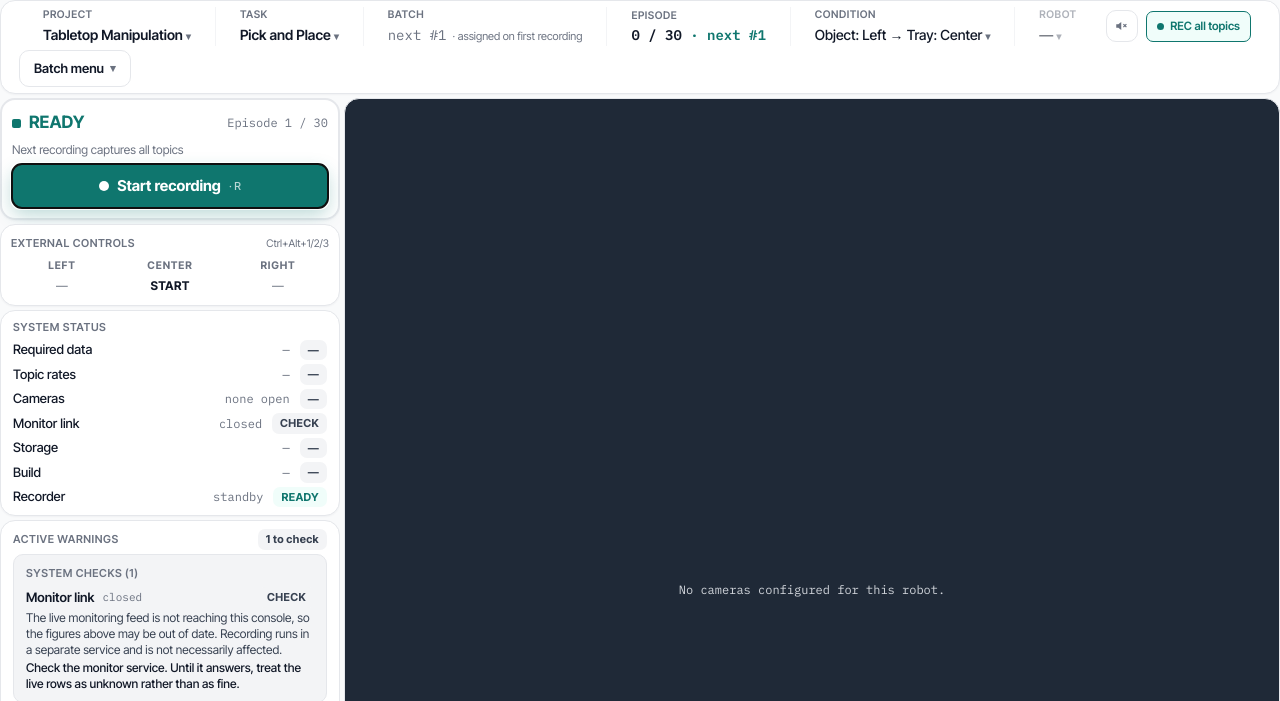
Scenario: an operator quality override rides along with operator provenance
expect the heading with test id "phase-title" reads "READY": met, box [29, 112, 84, 132]
Click the button "Start recording · R": (170, 186) [12, 164, 328, 208]
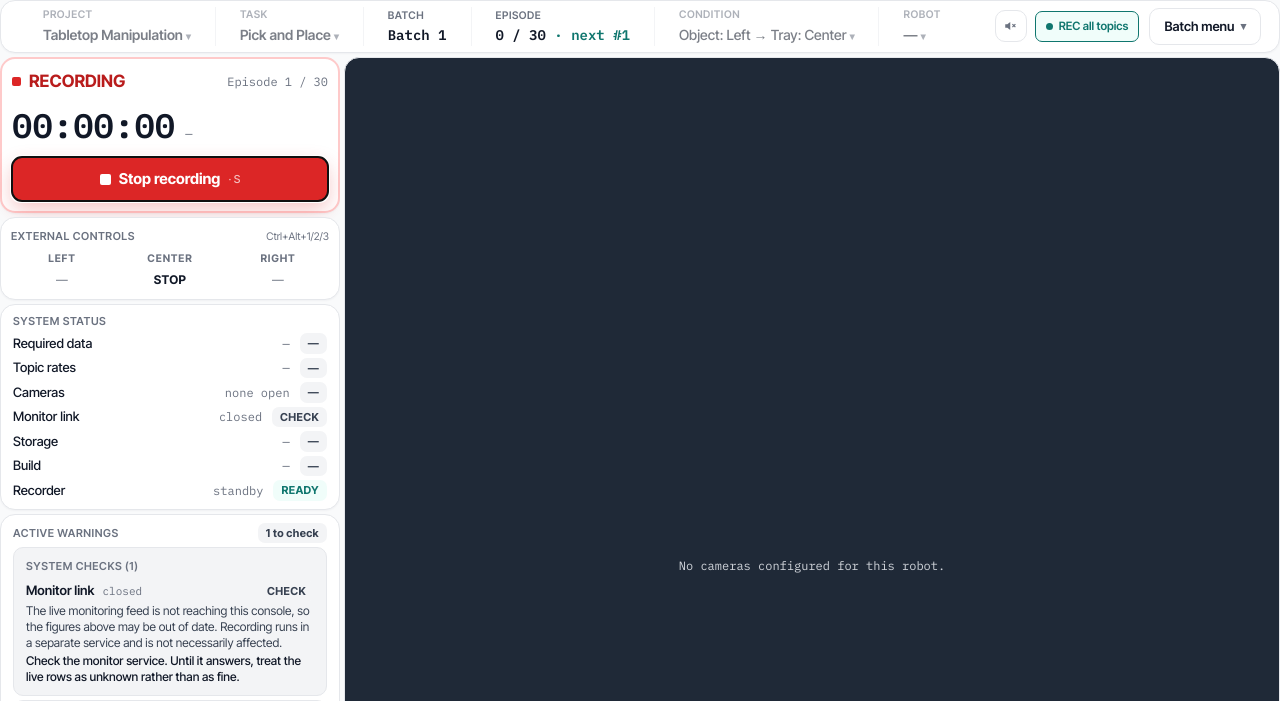
expect the heading with test id "phase-title" reads "RECORDING": met, box [29, 71, 125, 91]
Click the button "Stop recording · S": (170, 179) [12, 157, 328, 201]
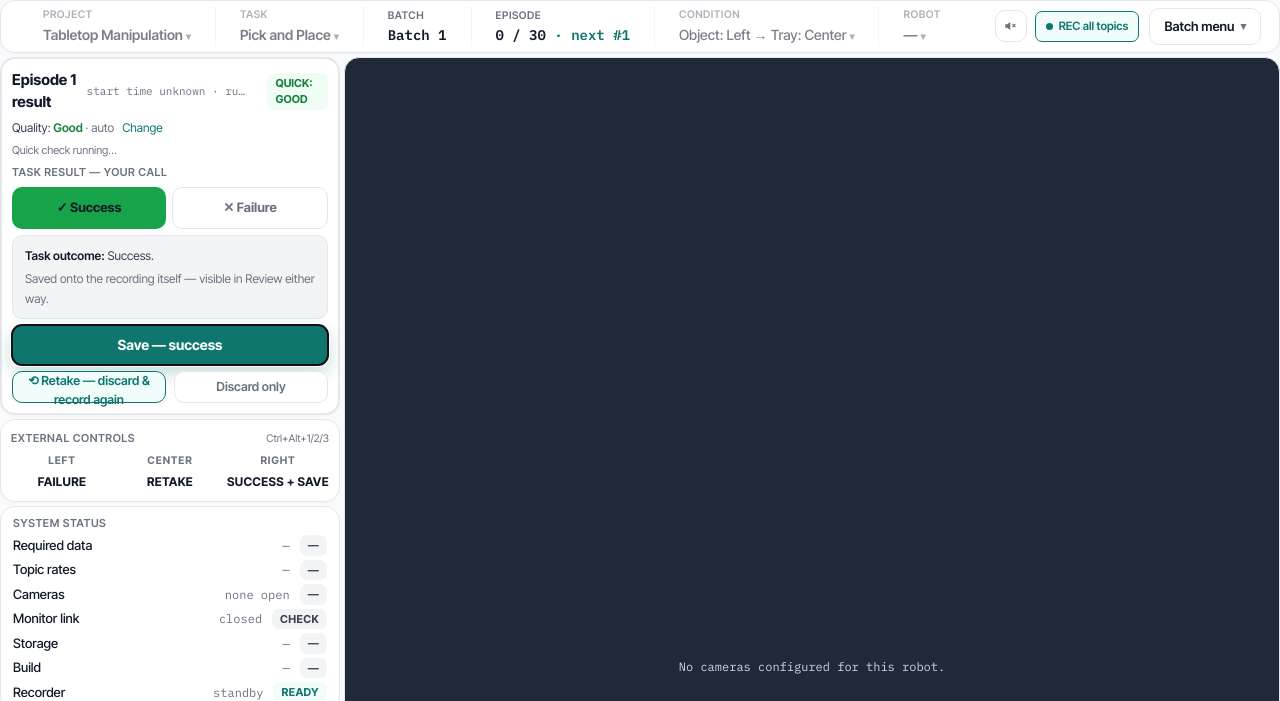
expect the heading with test id "phase-title" reads "Episode 1 result": met, box [12, 69, 79, 114]
Click the button "Change": (142, 128) [122, 120, 163, 136]
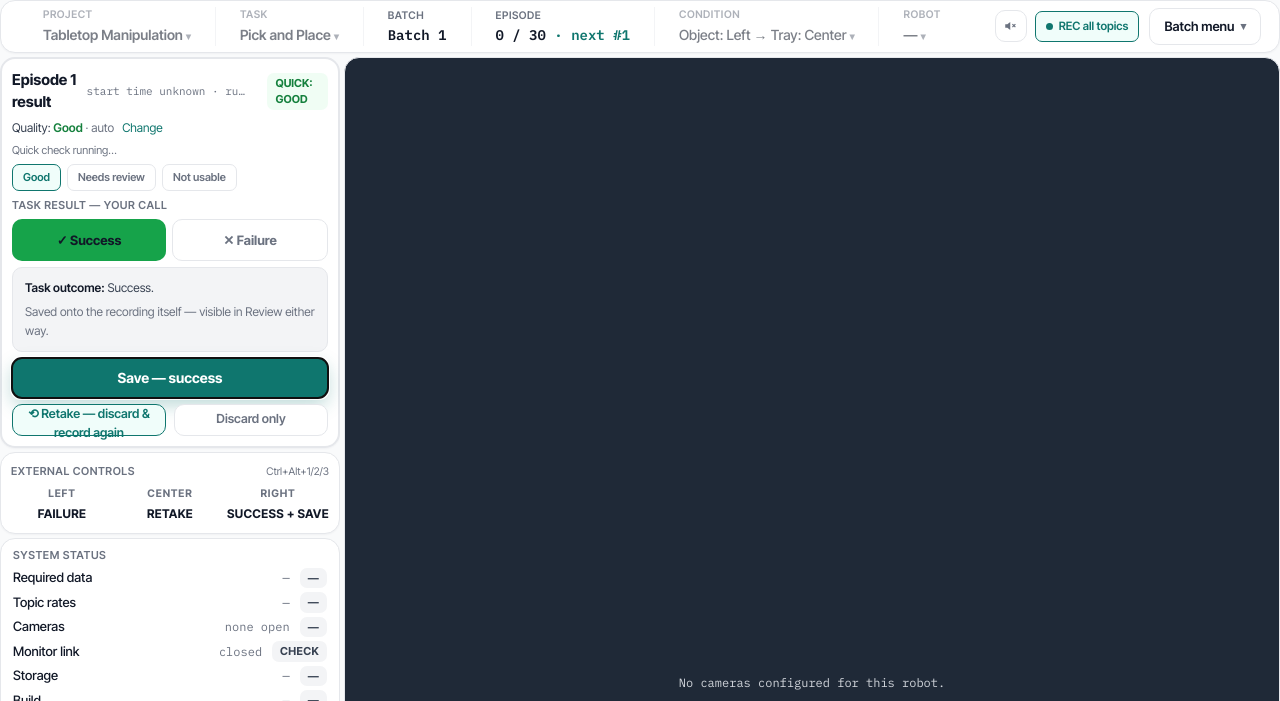
Click the button "Not usable": (199, 178) [162, 164, 237, 191]
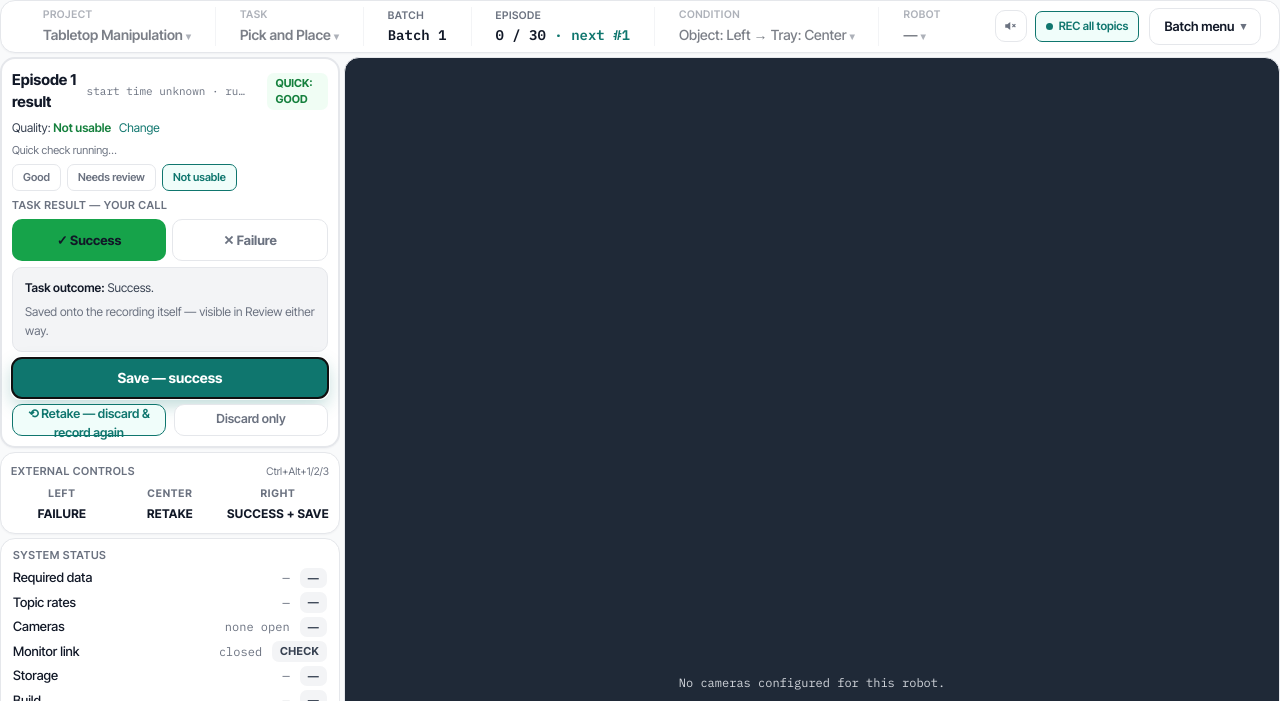
Click the button with test id "save-episode": (170, 378) [12, 358, 328, 398]
(page scrolled)
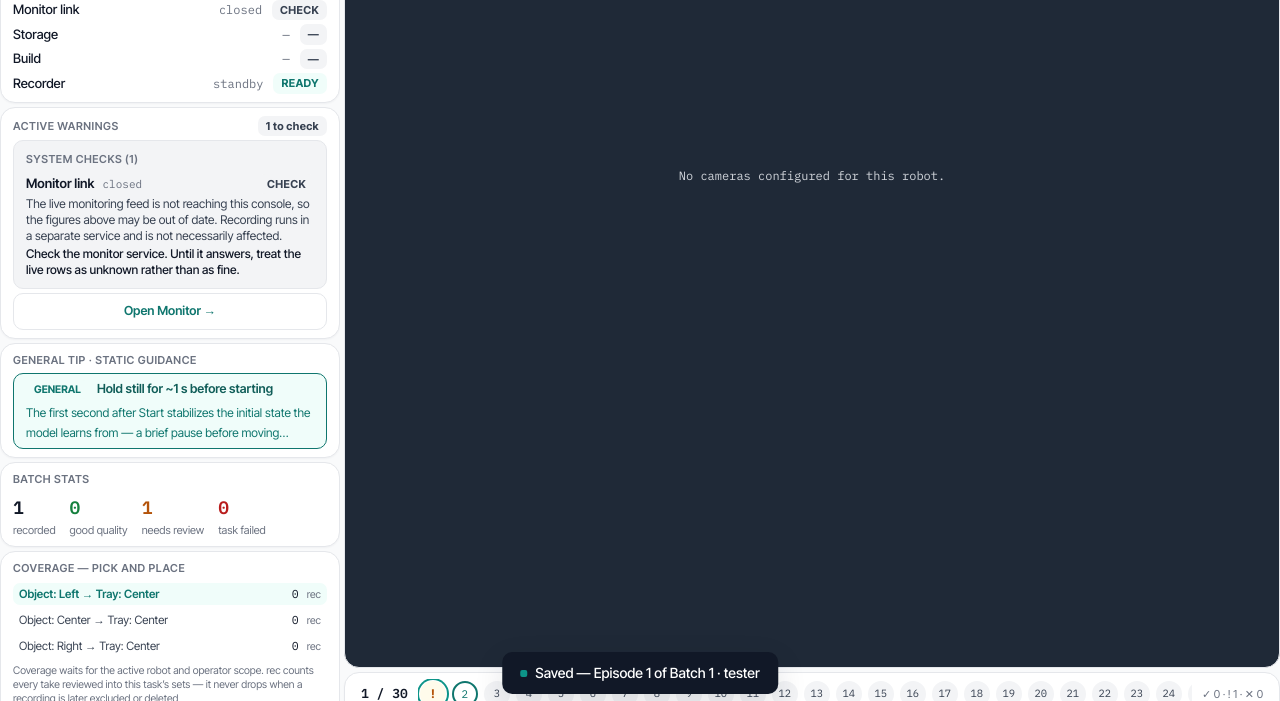
expect the text with test id "stat-recorded" reads "1": met, box [13, 496, 24, 519]
